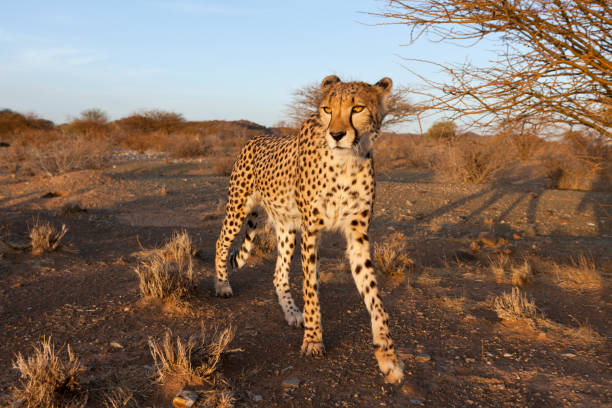cheetah: (315, 67, 395, 155)
